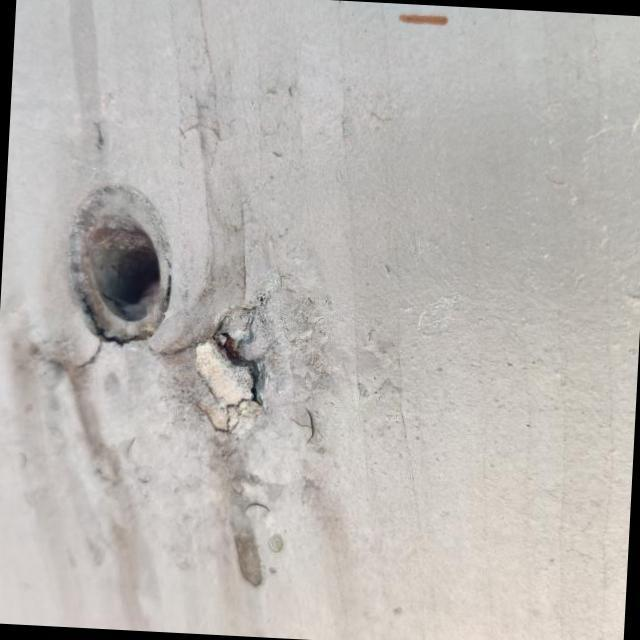Rupture: (150, 294, 282, 444)
